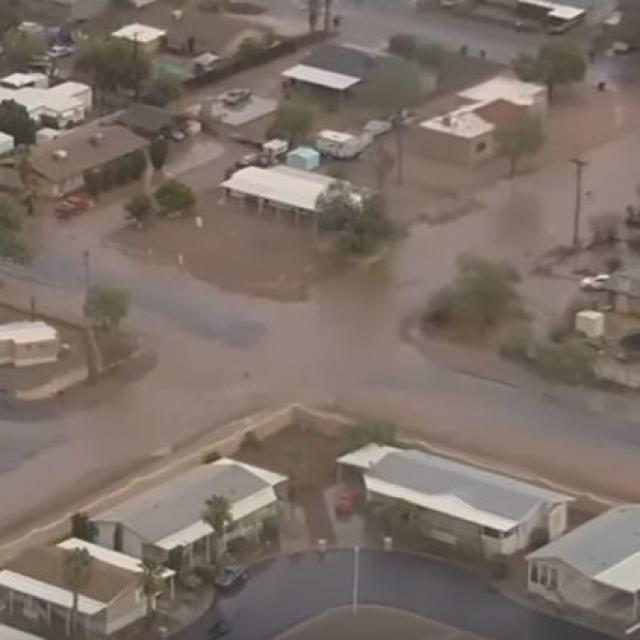flood: (0, 87, 640, 533)
house: (334, 436, 574, 574), (97, 451, 288, 590), (0, 529, 156, 640), (526, 498, 638, 640), (26, 124, 140, 210), (0, 317, 64, 368), (316, 128, 359, 160)
